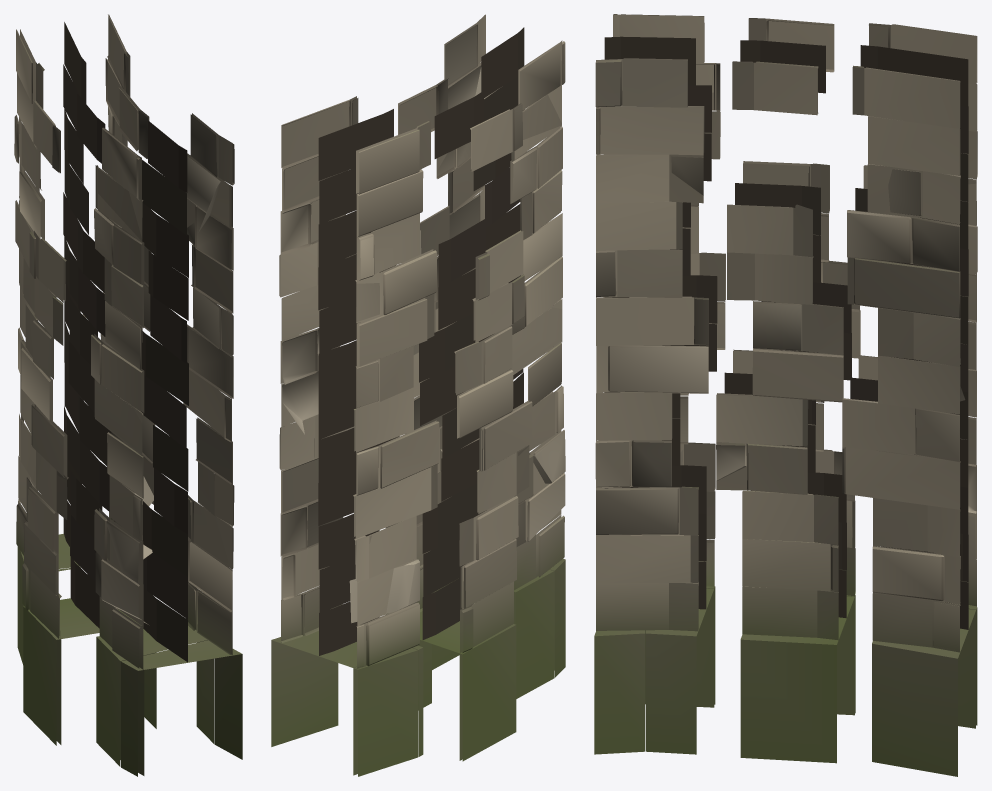
The model's file is baths_wall_w_cracked.glb.
3 renders of one model, left to right at view 1: azimuth 30°, elevation 25°; view 2: azimuth 150°, elevation 25°; view 3: azimuth 270°, elevation 25°, orthographic. The views are drawn at different scales.
Parts seen in each view (by area): view 1: baths_wall_w_cracked, baths_wall_w_cracked_far; view 2: baths_wall_w_cracked, baths_wall_w_cracked_far; view 3: baths_wall_w_cracked_far, baths_wall_w_cracked.
Part boxes in pixels (left/top/right/bottom): baths_wall_w_cracked: left=14, top=15, right=242, bottom=776; baths_wall_w_cracked_far: left=18, top=14, right=233, bottom=775; baths_wall_w_cracked: left=271, top=15, right=565, bottom=776; baths_wall_w_cracked_far: left=280, top=14, right=562, bottom=775; baths_wall_w_cracked_far: left=596, top=14, right=976, bottom=728; baths_wall_w_cracked: left=594, top=14, right=977, bottom=776.
Bounding box in the file's own units: 7.73 × 29.6 × 14.61.
